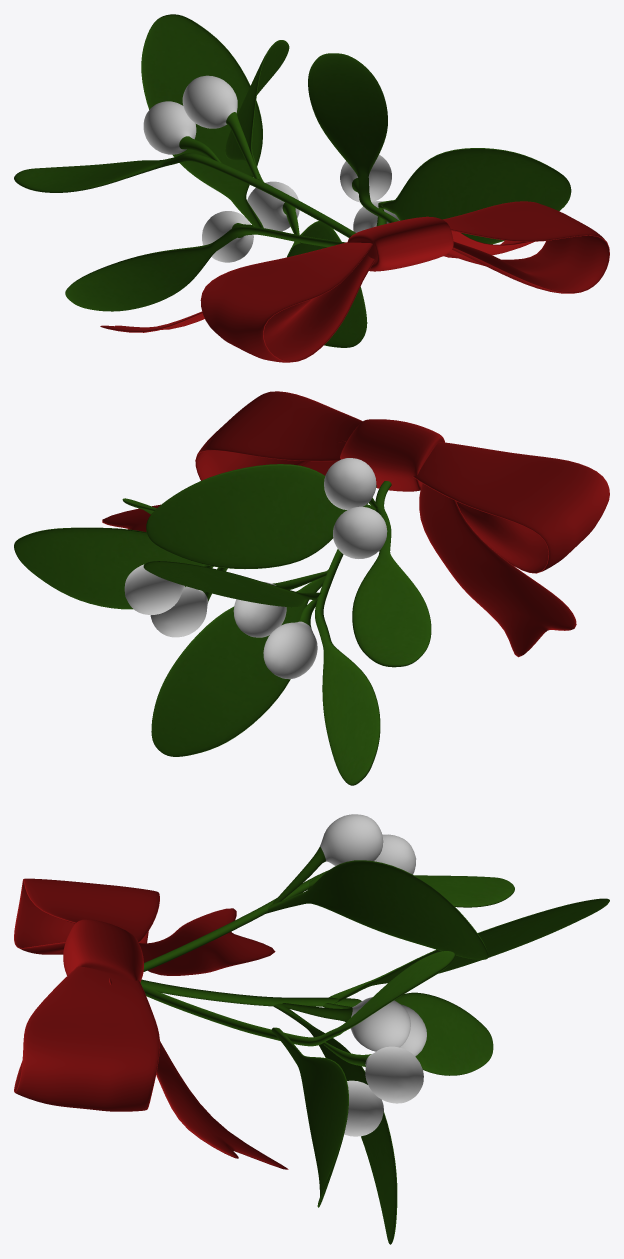
File: bowtie.obj
The picture shows the model from 3 angles, top to bottom: view 1: azimuth 30°, elevation 25°; view 2: azimuth 150°, elevation 25°; view 3: azimuth 270°, elevation 25°; orthographic projection. The views are drawn at different scales.
Parts seen in each view (by area): view 1: Bow, Leaf_2, Leaf_3, Leaf_1; view 2: Bow, Leaf_2, Leaf_1, Leaf_3; view 3: Bow, Leaf_2, Leaf_1, Leaf_3.
Part boxes in pixels (box(x1,y1,x2,y2)): Bow: box(100, 201, 609, 362); Leaf_2: box(65, 14, 367, 347); Leaf_3: box(308, 53, 571, 244); Leaf_1: box(14, 40, 355, 237); Bow: box(102, 391, 609, 657); Leaf_2: box(143, 485, 380, 785); Leaf_1: box(146, 458, 431, 667); Leaf_3: box(14, 498, 227, 637); Bow: box(14, 878, 288, 1169); Leaf_2: box(140, 898, 609, 1244); Leaf_1: box(143, 814, 514, 971); Leaf_3: box(141, 951, 455, 1207).
Size of the model in its own units: 9.1 by 5.42 by 8.56.
